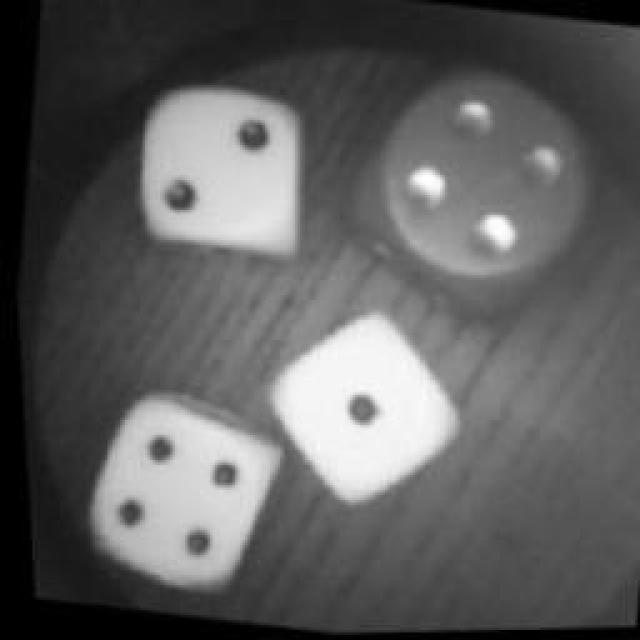dice_1: (241, 292, 481, 522)
dice_2: (110, 68, 330, 282)
dice_4: (322, 38, 638, 352), (56, 374, 302, 614)
